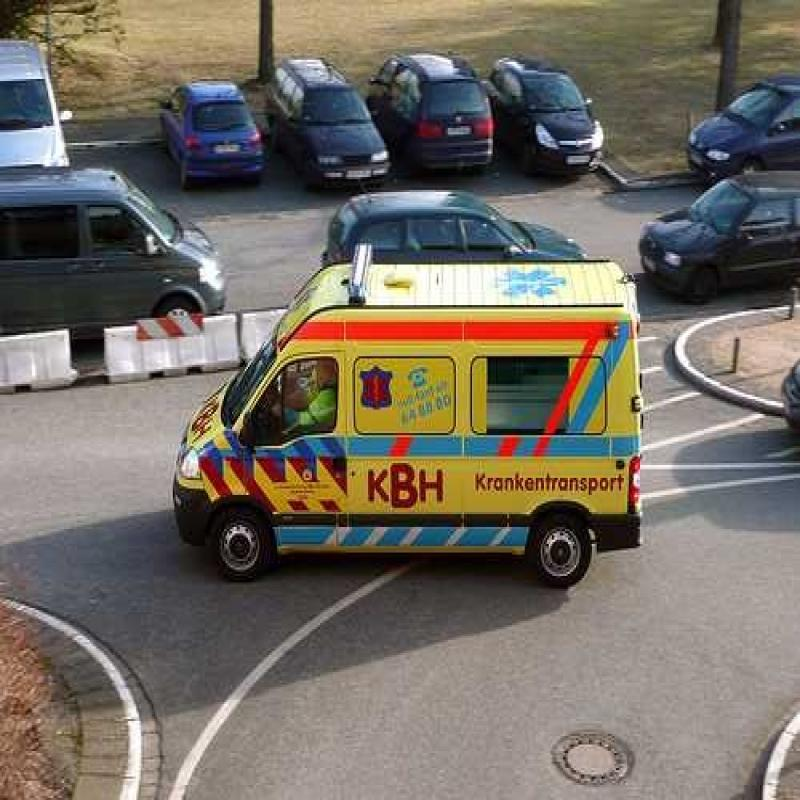AmbulanceSiren: (339, 232, 385, 324)
